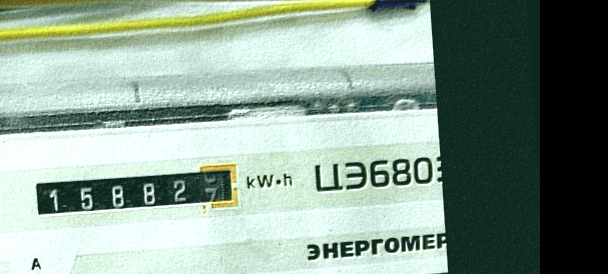1: (47, 186, 61, 213)
2: (171, 178, 189, 204)
5: (78, 185, 94, 212)
7: (203, 185, 219, 203)
8: (109, 183, 127, 209), (141, 181, 158, 207)
screen: (25, 158, 248, 229)
